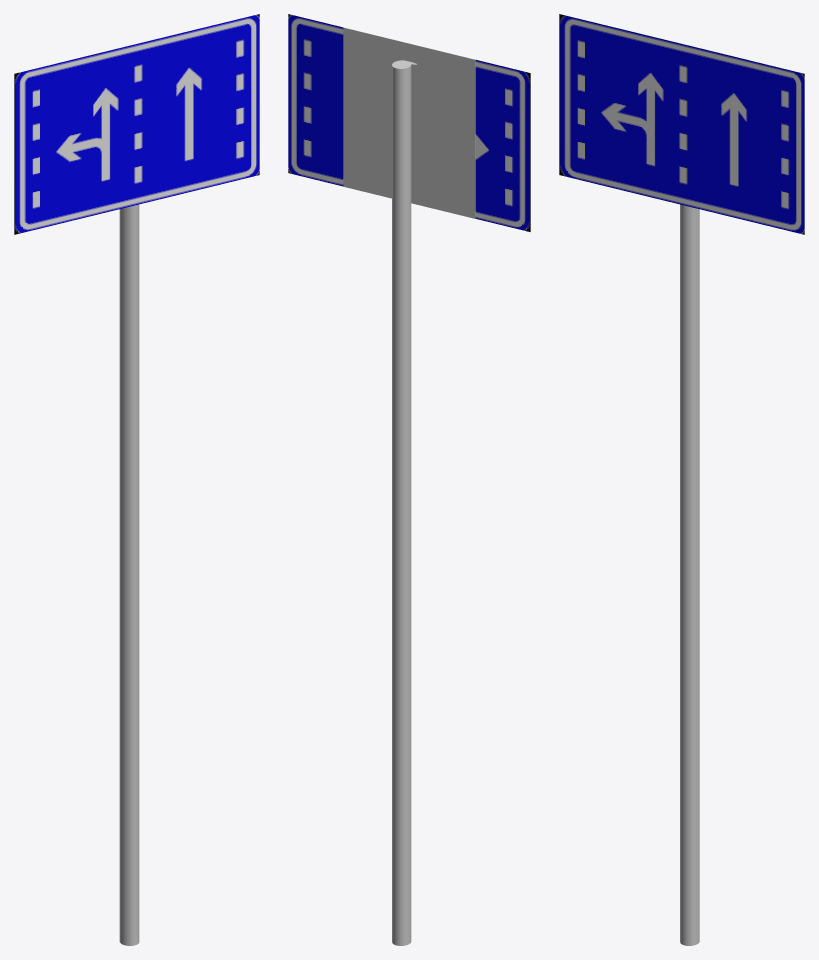
3 renders of one model, left to right at view 1: azimuth 30°, elevation 25°; view 2: azimuth 150°, elevation 25°; view 3: azimuth 330°, elevation 25°, orthographic.
Visible parts, largest first — view 1: SM_zhishipai_05; view 2: SM_zhishipai_05; view 3: SM_zhishipai_05.
Boxes of the visible parts, x1,y1,x2,y2 form: SM_zhishipai_05: [14, 14, 259, 945]; SM_zhishipai_05: [288, 14, 530, 945]; SM_zhishipai_05: [559, 14, 804, 945].
Size of the model in its own units: 4.69 by 16.52 by 0.4286.
Materials: 2 (1 with a texture image).
